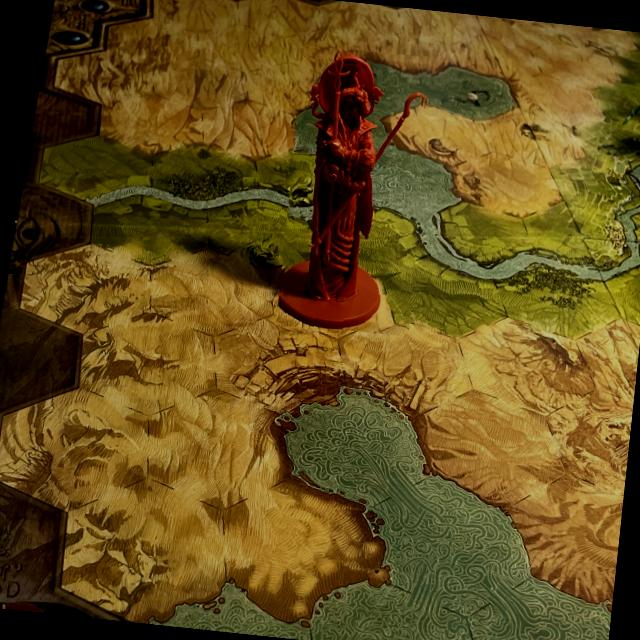amon: (273, 44, 435, 338)
